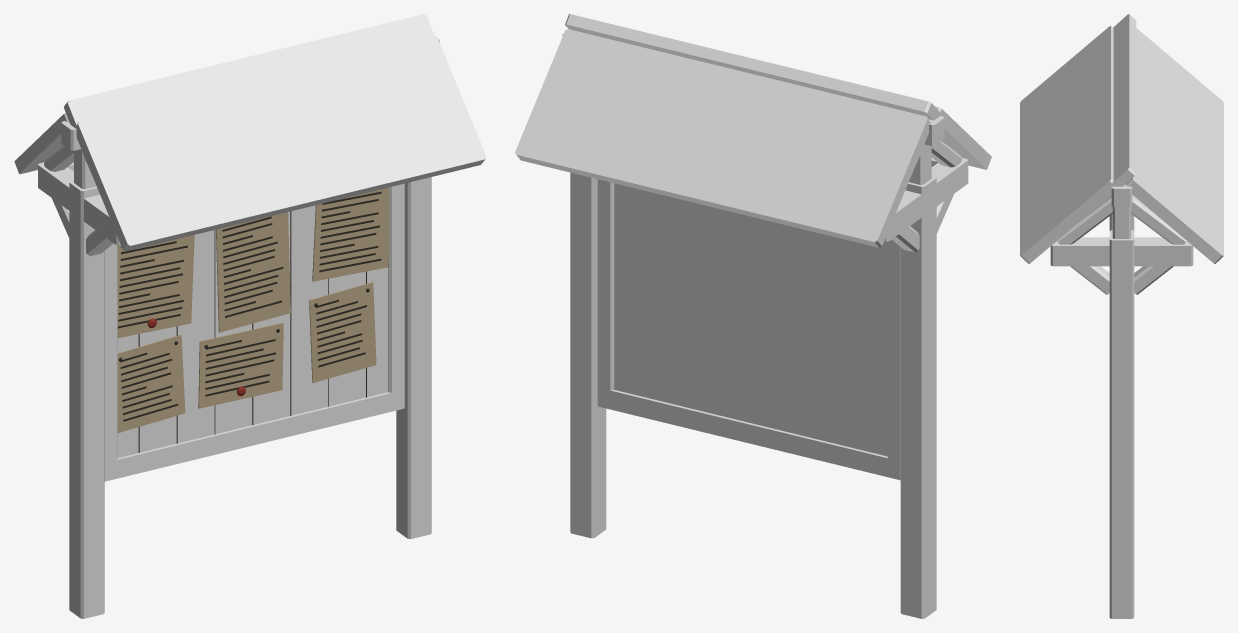
File: SilverbrookPropNoticeBoard.glb
The picture shows the model from 3 angles, left to right: view 1: azimuth 30°, elevation 25°; view 2: azimuth 150°, elevation 25°; view 3: azimuth 270°, elevation 25°; orthographic projection. The views are drawn at different scales.
Parts seen in each view (by area): view 1: SM_SBPropNoticeBoard_Roof, SM_SBPropNoticeBoard_Timber, SM_SBPropNoticeBoard_Details, SM_SBPropNoticeBoard_Board; view 2: SM_SBPropNoticeBoard_Roof, SM_SBPropNoticeBoard_Board, SM_SBPropNoticeBoard_Timber; view 3: SM_SBPropNoticeBoard_Roof, SM_SBPropNoticeBoard_Timber.
Part boxes in pixels (<box>): SM_SBPropNoticeBoard_Roof: <box>14,14,486,251</box>; SM_SBPropNoticeBoard_Timber: <box>38,39,439,618</box>; SM_SBPropNoticeBoard_Details: <box>117,187,388,452</box>; SM_SBPropNoticeBoard_Board: <box>117,205,388,457</box>; SM_SBPropNoticeBoard_Roof: <box>515,14,991,247</box>; SM_SBPropNoticeBoard_Board: <box>614,183,887,456</box>; SM_SBPropNoticeBoard_Timber: <box>562,33,968,618</box>; SM_SBPropNoticeBoard_Roof: <box>1020,14,1223,263</box>; SM_SBPropNoticeBoard_Timber: <box>1050,184,1193,618</box>.
Size of the model in its own units: 1.85 by 2.45 by 0.9996.
